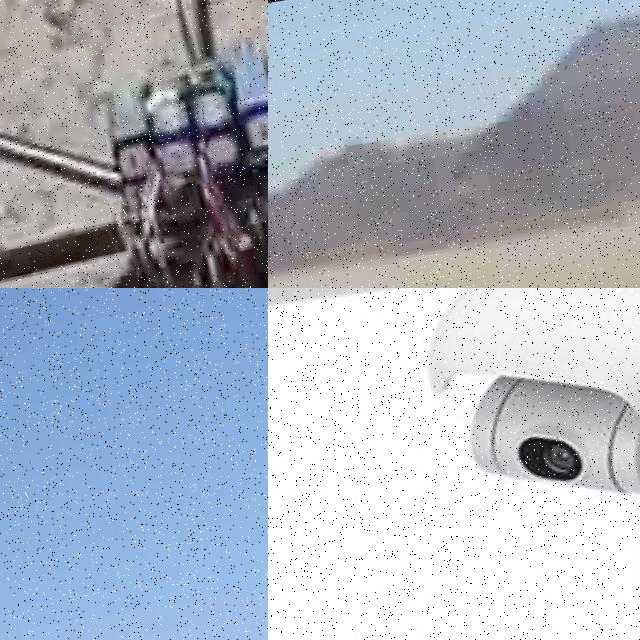0: (0, 0, 268, 288)
drone: (268, 288, 640, 640)
